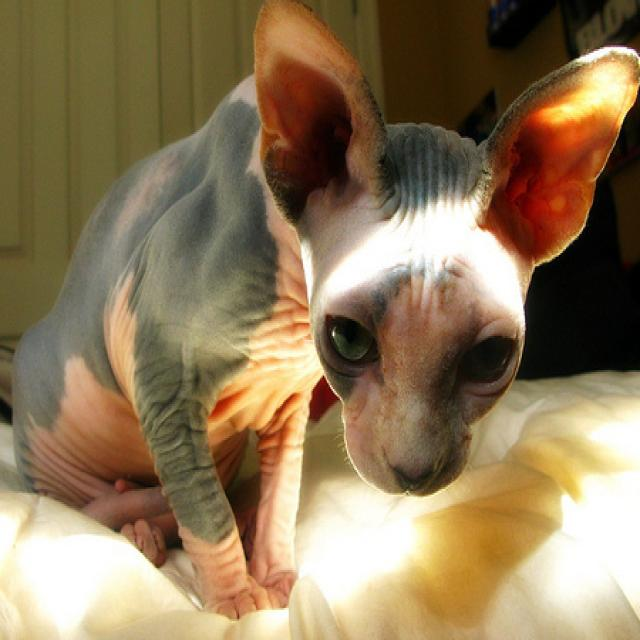Sphynx: (7, 0, 640, 617)
